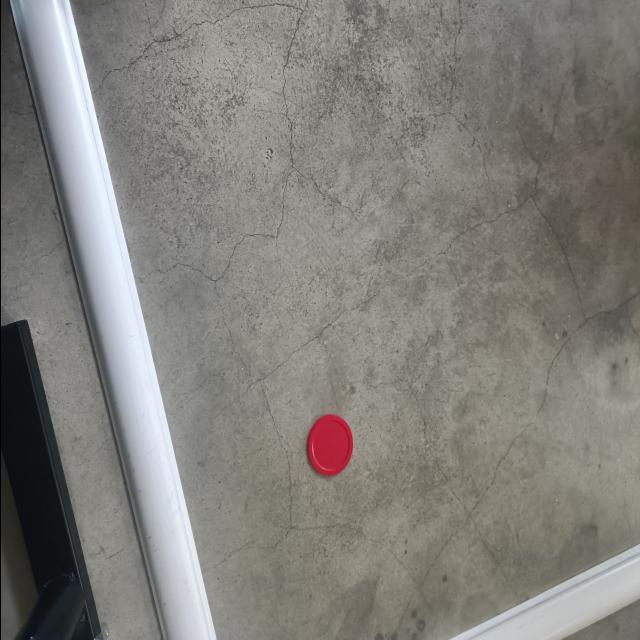chip: (306, 412, 353, 477)
